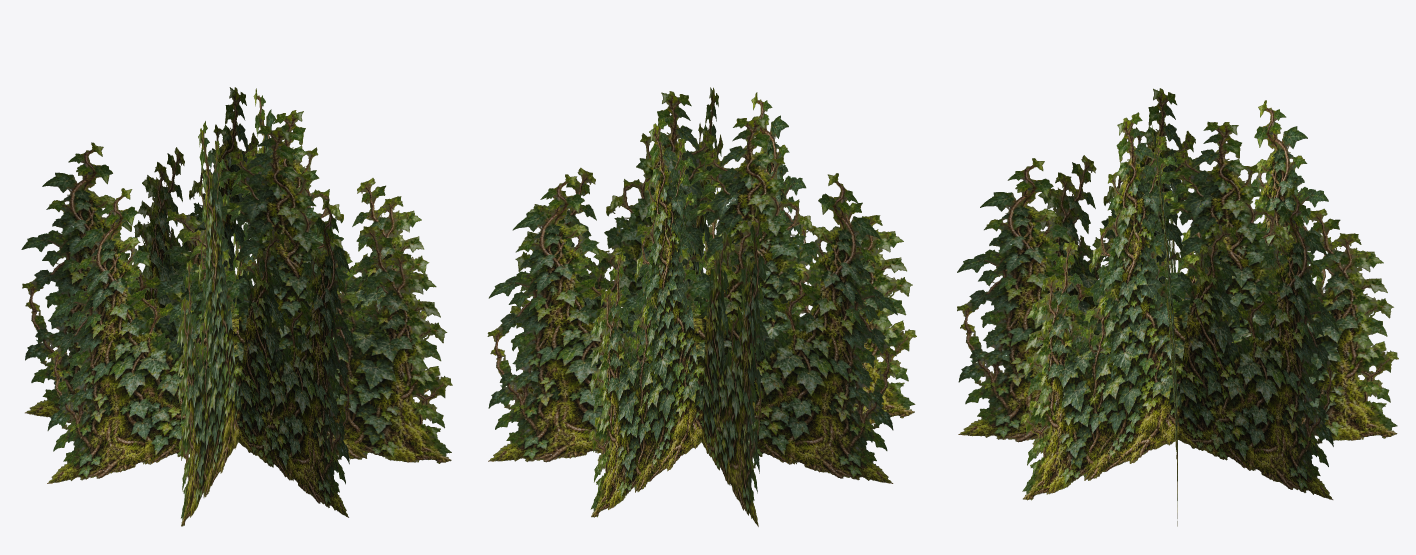
Rendered from SilverbrookPropIvyClump.fbx.
3 renders of one model, left to right at view 1: azimuth 30°, elevation 25°; view 2: azimuth 150°, elevation 25°; view 3: azimuth 270°, elevation 25°, orthographic.
Visible parts, largest first — view 1: SM_SBIvyClump_Cards; view 2: SM_SBIvyClump_Cards; view 3: SM_SBIvyClump_Cards.
Part boxes in pixels (x1,y1,x2,y2): SM_SBIvyClump_Cards: [21, 87, 452, 526]; SM_SBIvyClump_Cards: [487, 87, 916, 526]; SM_SBIvyClump_Cards: [957, 88, 1398, 526].
Bounding box in the file's own units: 120 × 100 × 120.
1 material, 1 textured.
